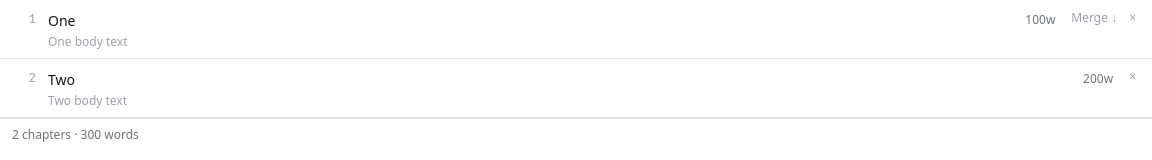
Test case: ChapterPreviewList › merges a chapter into the next one
Step 1. Click the button titled "Merge with next chapter" → (1094, 18), box [1067,10,1121,26]
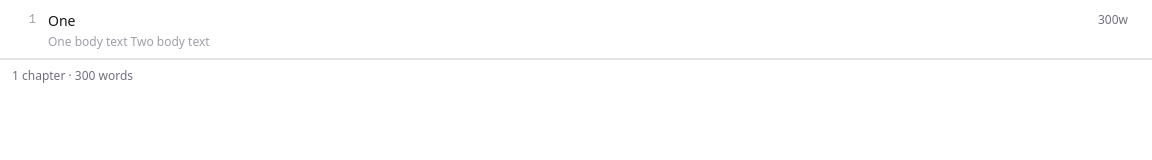
Result: the text "1 chapter · 300 words" is shown at [0,59,1151,92]
